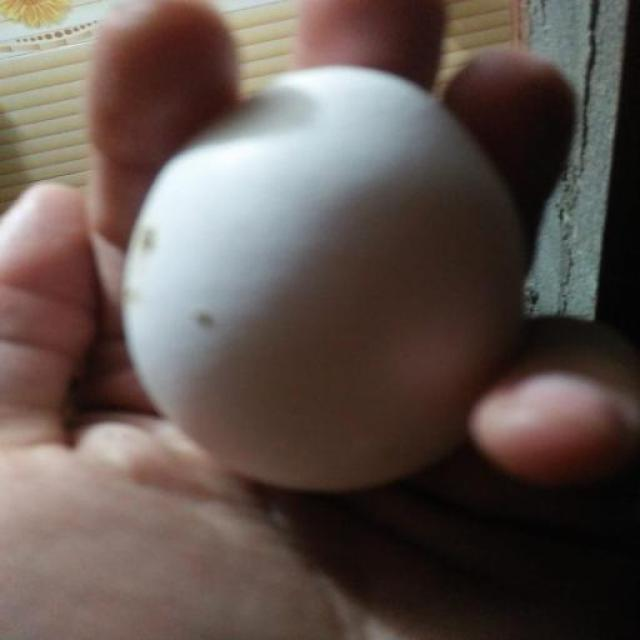telur: (117, 70, 524, 492)
